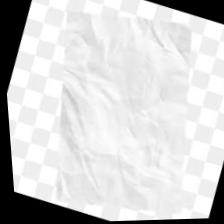paper: (8, 0, 223, 220)
